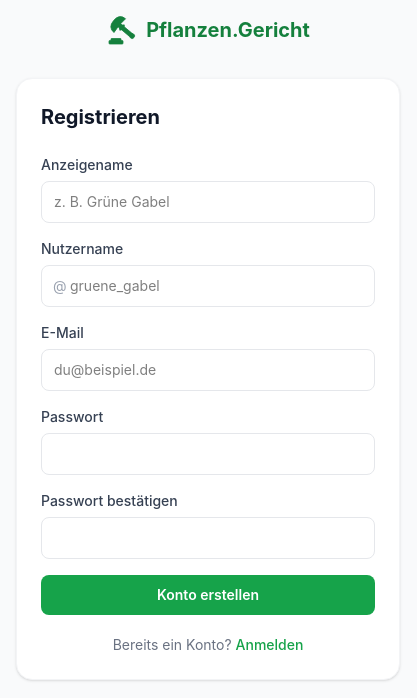
Test: RegisterView › when typing a display name › suggests a username
Type "Grüne Gabel" into the field with id "displayName".
click(208, 202); type("Grüne Gabel")  # box [41,181,375,223]
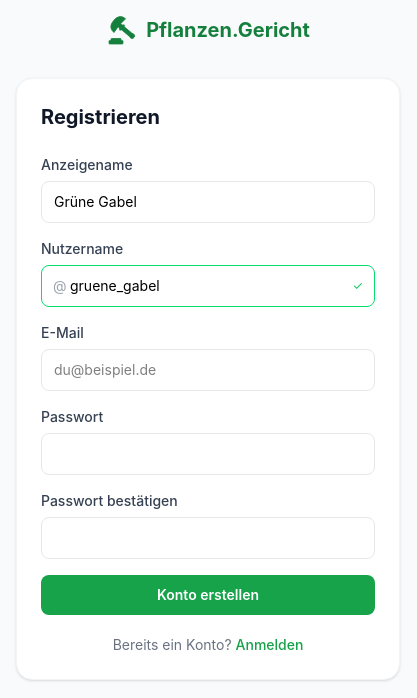
Check: the field with id "username" holds "gruene_gabel", box [41,265,375,307]
